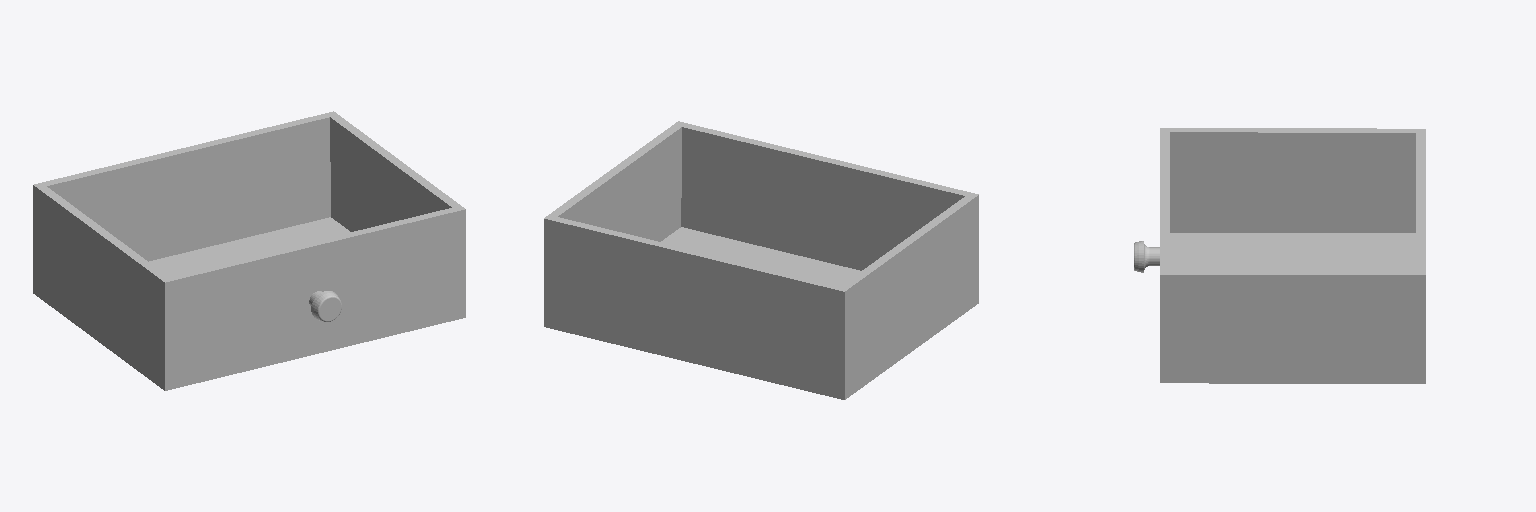
The model's file is BedroomDrawer.obj.
3 views of the same model, side by side, from view 1: azimuth 30°, elevation 25°; view 2: azimuth 150°, elevation 25°; view 3: azimuth 270°, elevation 25° (orthographic).
Visible parts, largest first — view 1: Drawer_Bedside_Table_C.003; view 2: Drawer_Bedside_Table_C.003; view 3: Drawer_Bedside_Table_C.003.
Boxes of the visible parts, x1=… form: Drawer_Bedside_Table_C.003: x1=33, y1=111, x2=465, y2=390; Drawer_Bedside_Table_C.003: x1=544, y1=121, x2=978, y2=399; Drawer_Bedside_Table_C.003: x1=1134, y1=128, x2=1425, y2=383.
Bounding box in the file's own units: 3.68 × 1.26 × 3.08.